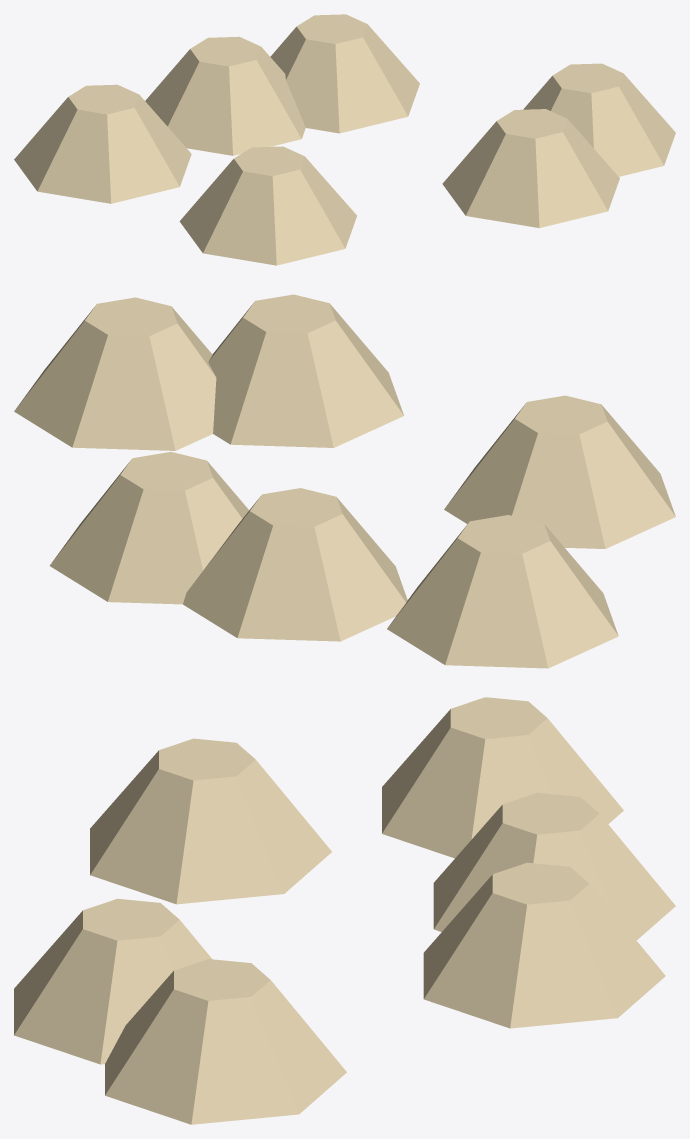
The model's file is jazida_areia_sem_textura.glb.
3 views of the same model, one above another, from view 1: azimuth 30°, elevation 25°; view 2: azimuth 150°, elevation 25°; view 3: azimuth 270°, elevation 25° (orthographic). The views are drawn at different scales.
Visible parts, largest first — view 1: jazida_areia; view 2: jazida_areia; view 3: jazida_areia.
Part boxes in pixels (<box>): jazida_areia: <box>14,14,675,265</box>; jazida_areia: <box>14,294,675,668</box>; jazida_areia: <box>14,697,675,1124</box>.
Size of the model in its own units: 0.6812 by 0.08 by 0.5196.
